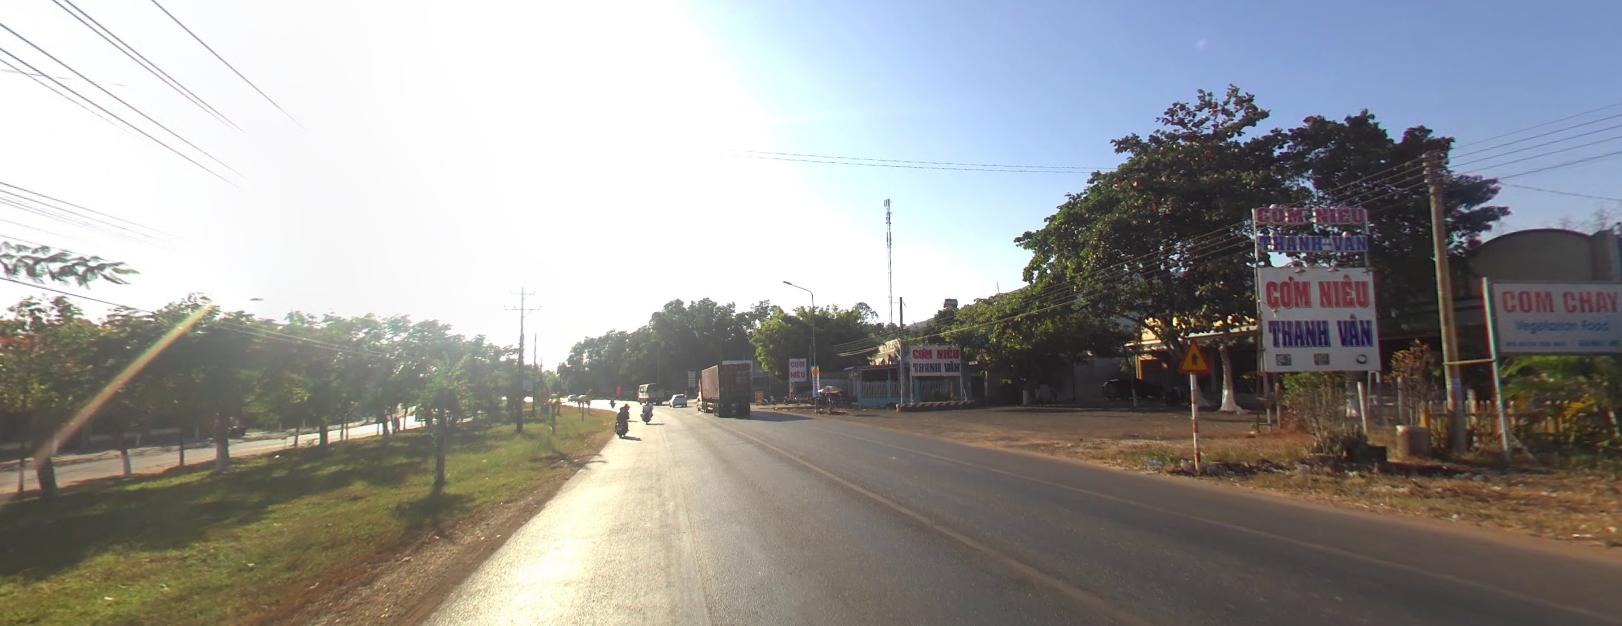Nguy hiem: (1177, 336, 1211, 371)
